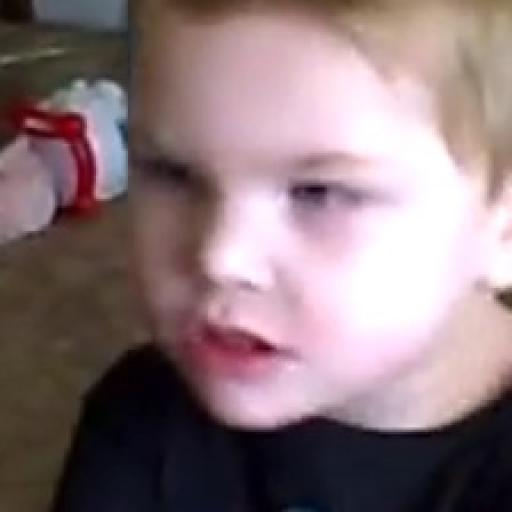Autism: (95, 2, 512, 476)
